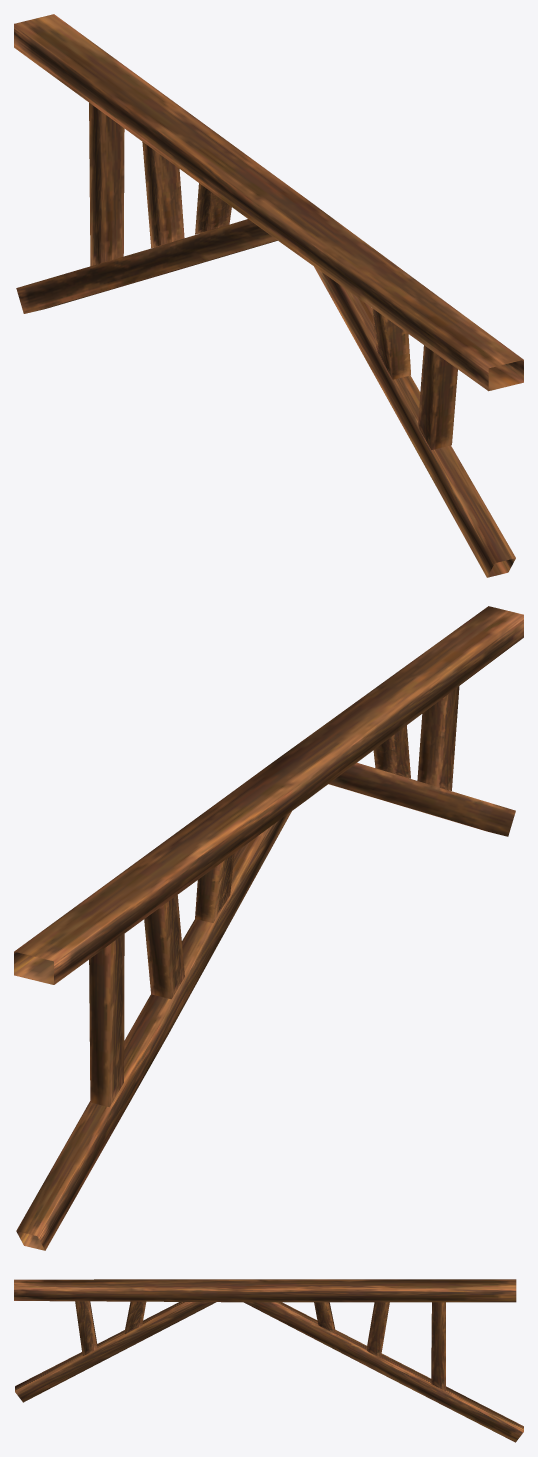
The model's file is INST_SWORDLIGHT_TRACKBRACKE.fbx.
3 views of the same model, one above another, from view 1: azimuth 30°, elevation 25°; view 2: azimuth 150°, elevation 25°; view 3: azimuth 270°, elevation 25° (orthographic). The views are drawn at different scales.
Visible parts, largest first — view 1: INST_SWORDLIGHT_TRACKBRACKE; view 2: INST_SWORDLIGHT_TRACKBRACKE; view 3: INST_SWORDLIGHT_TRACKBRACKE.
Part boxes in pixels (left/top/right/bottom): INST_SWORDLIGHT_TRACKBRACKE: left=14, top=14, right=523, bottom=577; INST_SWORDLIGHT_TRACKBRACKE: left=14, top=606, right=523, bottom=1250; INST_SWORDLIGHT_TRACKBRACKE: left=14, top=1279, right=523, bottom=1442.
Bounding box in the file's own units: 8604 × 60008 × 178093.
Materials: 1 (1 with a texture image).
